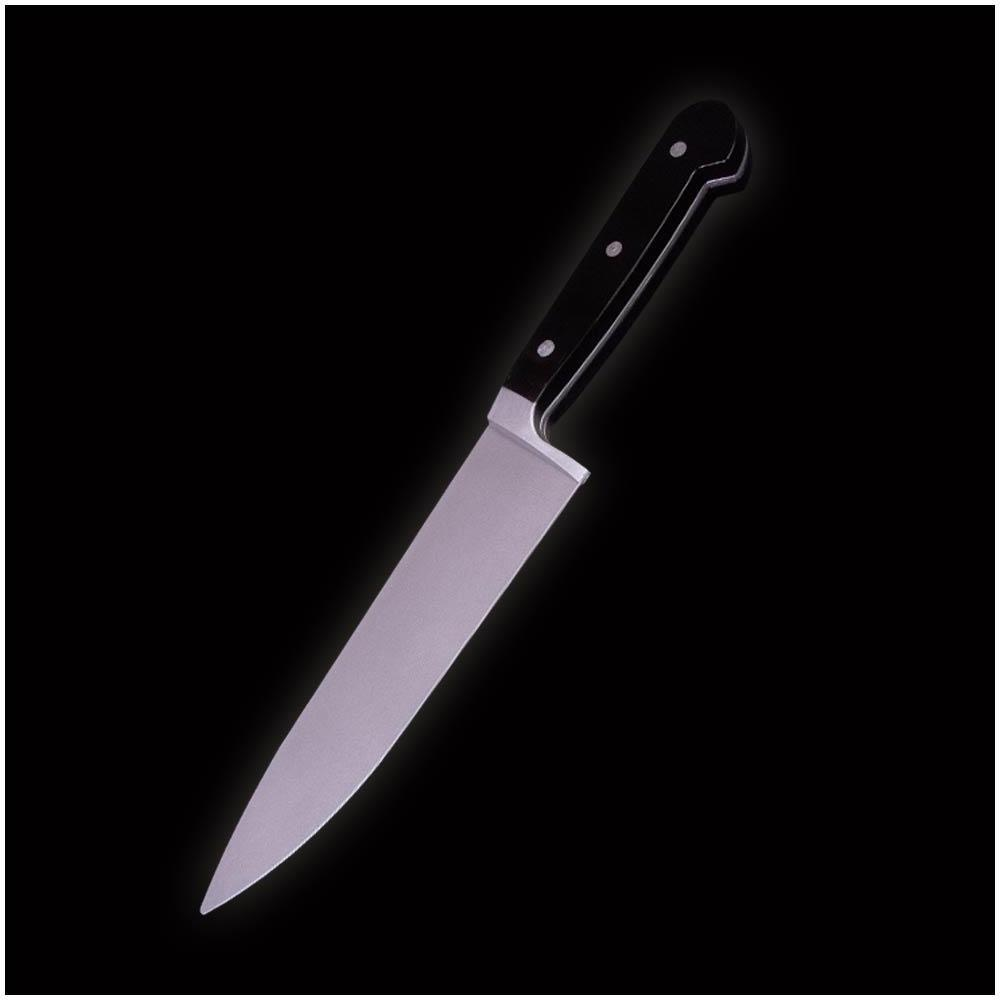knife: (199, 100, 756, 913)
